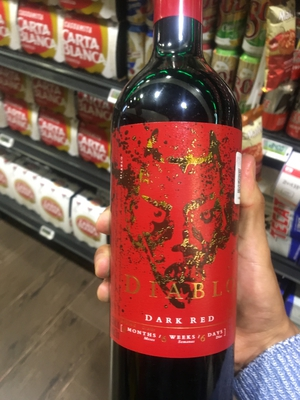diablo dark red: (106, 20, 253, 400)
